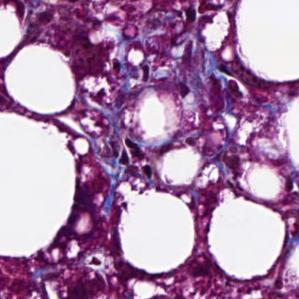inflammation: (114, 135, 151, 168)
